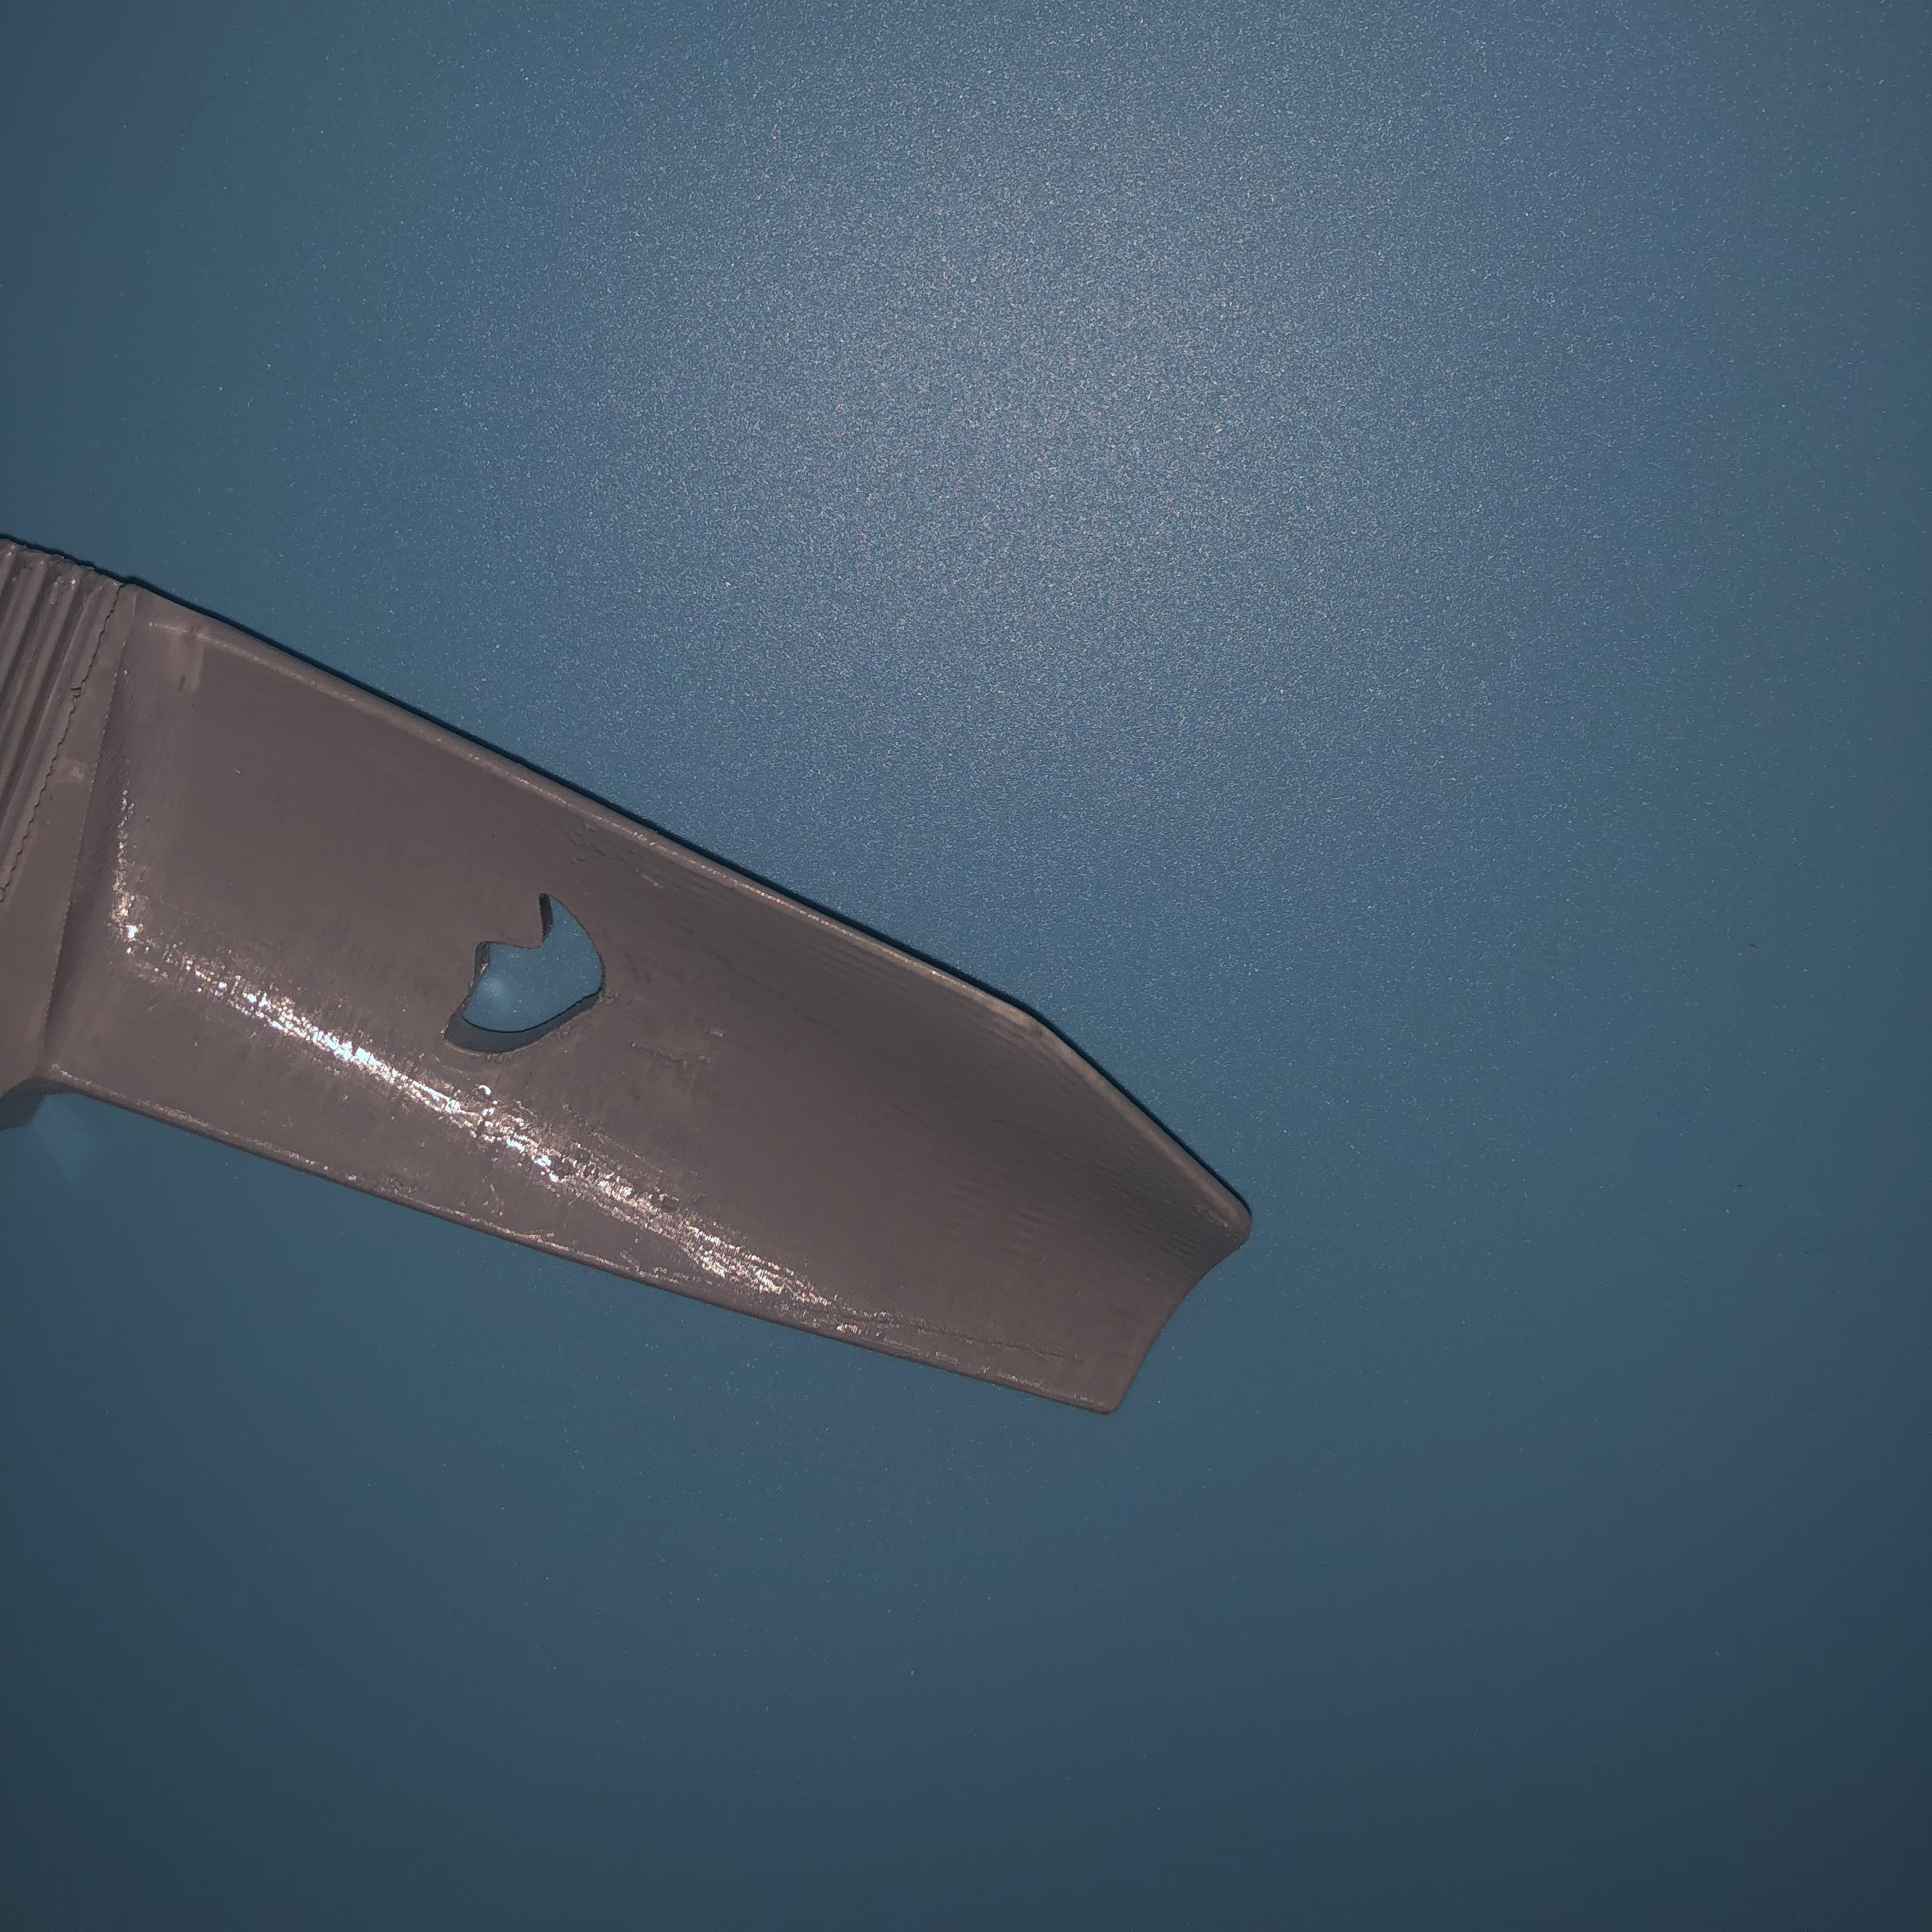breakdown: (449, 890, 619, 1051)
